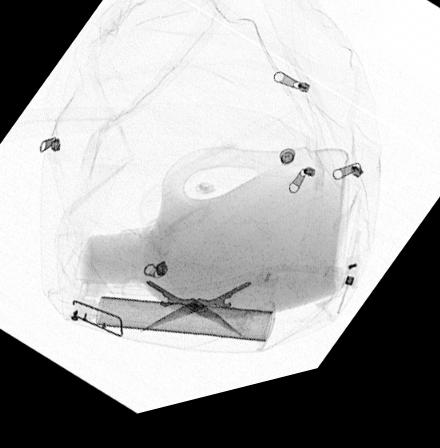Scissors: (119, 279, 277, 354)
